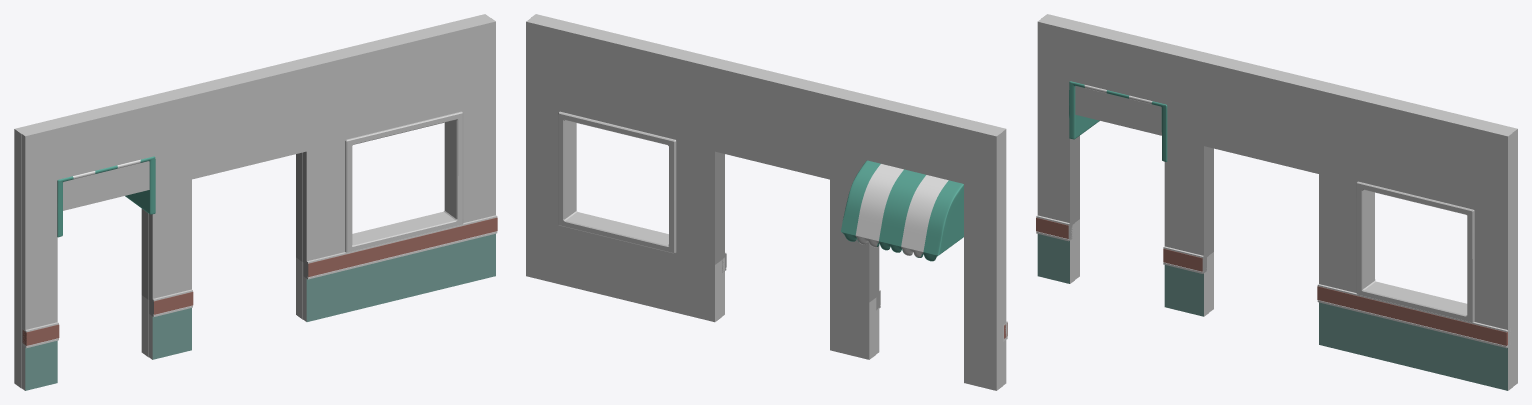
File: front_wall.fbx
3 views of the same model, side by side, from view 1: azimuth 30°, elevation 25°; view 2: azimuth 150°, elevation 25°; view 3: azimuth 330°, elevation 25° (orthographic).
Visible parts, largest first — view 1: wall_usd1_wall12, wall_usd1_wall11, pCube57, wall_usd1_wall9, wall_usd1_wall7, pCube22; view 2: wall_usd1_wall11, pCube22, pCube57, wall_usd1_wall12; view 3: wall_usd1_wall12, wall_usd1_wall11, pCube57, wall_usd1_wall9, wall_usd1_wall7, pCube22.
Boxes of the visible parts, <box> form: wall_usd1_wall12: <box>21,18,495,390</box>; wall_usd1_wall11: <box>14,14,490,387</box>; pCube57: <box>345,111,463,252</box>; wall_usd1_wall9: <box>22,217,497,345</box>; wall_usd1_wall7: <box>22,215,497,348</box>; pCube22: <box>57,156,155,237</box>; wall_usd1_wall11: <box>526,17,1002,390</box>; pCube22: <box>841,160,963,261</box>; pCube57: <box>558,111,676,253</box>; wall_usd1_wall12: <box>531,14,1006,385</box>; wall_usd1_wall12: <box>1037,19,1512,390</box>; wall_usd1_wall11: <box>1041,14,1517,386</box>; pCube57: <box>1356,181,1474,322</box>; wall_usd1_wall9: <box>1036,217,1507,345</box>; wall_usd1_wall7: <box>1036,215,1510,348</box>; pCube22: <box>1069,81,1167,161</box>.
Bounding box in the file's own units: 16.8 × 8.67 × 2.3.
